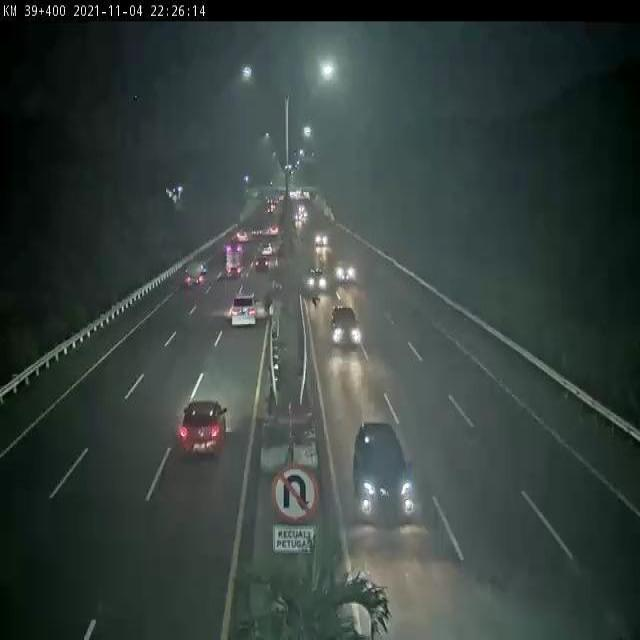ARABA: (352, 429, 424, 523), (181, 393, 226, 455), (331, 308, 369, 364), (335, 258, 362, 294), (231, 296, 256, 328), (305, 262, 329, 294), (253, 256, 267, 273), (316, 231, 328, 249)
KAMYONET: (221, 245, 246, 278)
TIR: (187, 263, 210, 289)
